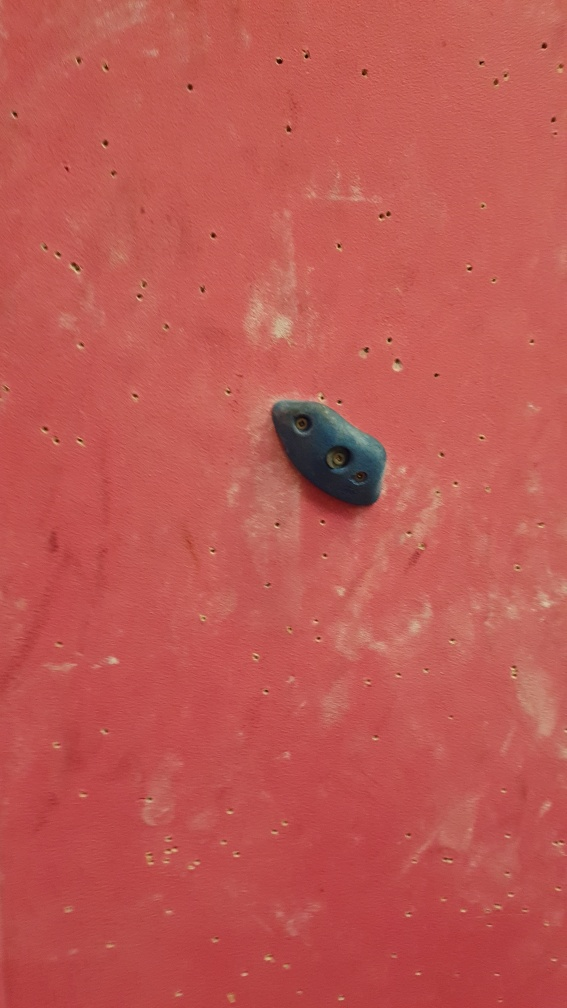Crimp: (270, 395, 390, 510)
